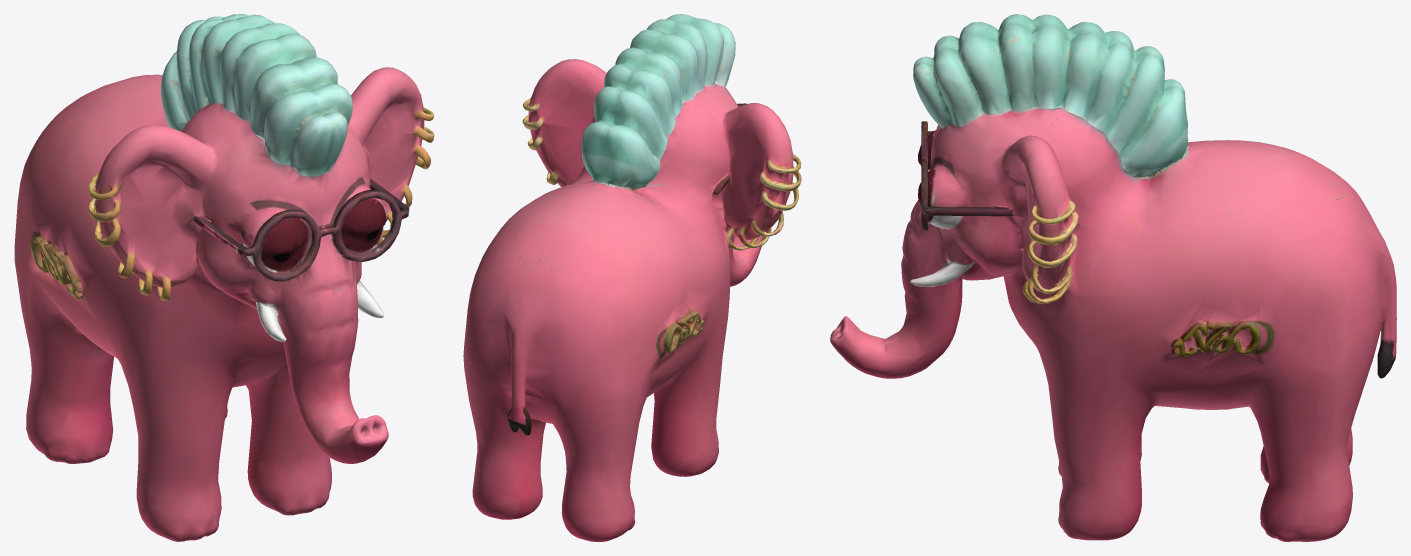
Rendered from b_eleph.glb.
3 views of the same model, side by side, from view 1: azimuth 30°, elevation 25°; view 2: azimuth 150°, elevation 25°; view 3: azimuth 270°, elevation 25° (orthographic). The views are drawn at different scales.
Visible parts, largest first — view 1: Mesh_0; view 2: Mesh_0; view 3: Mesh_0.
Boxes of the visible parts, left/top/right/bottom form: Mesh_0: left=14, top=14, right=434, bottom=541; Mesh_0: left=463, top=14, right=801, bottom=541; Mesh_0: left=830, top=14, right=1396, bottom=541.
Bounding box in the file's own units: 1.26 × 1.8 × 1.91.
Materials: 1 (1 with a texture image).
